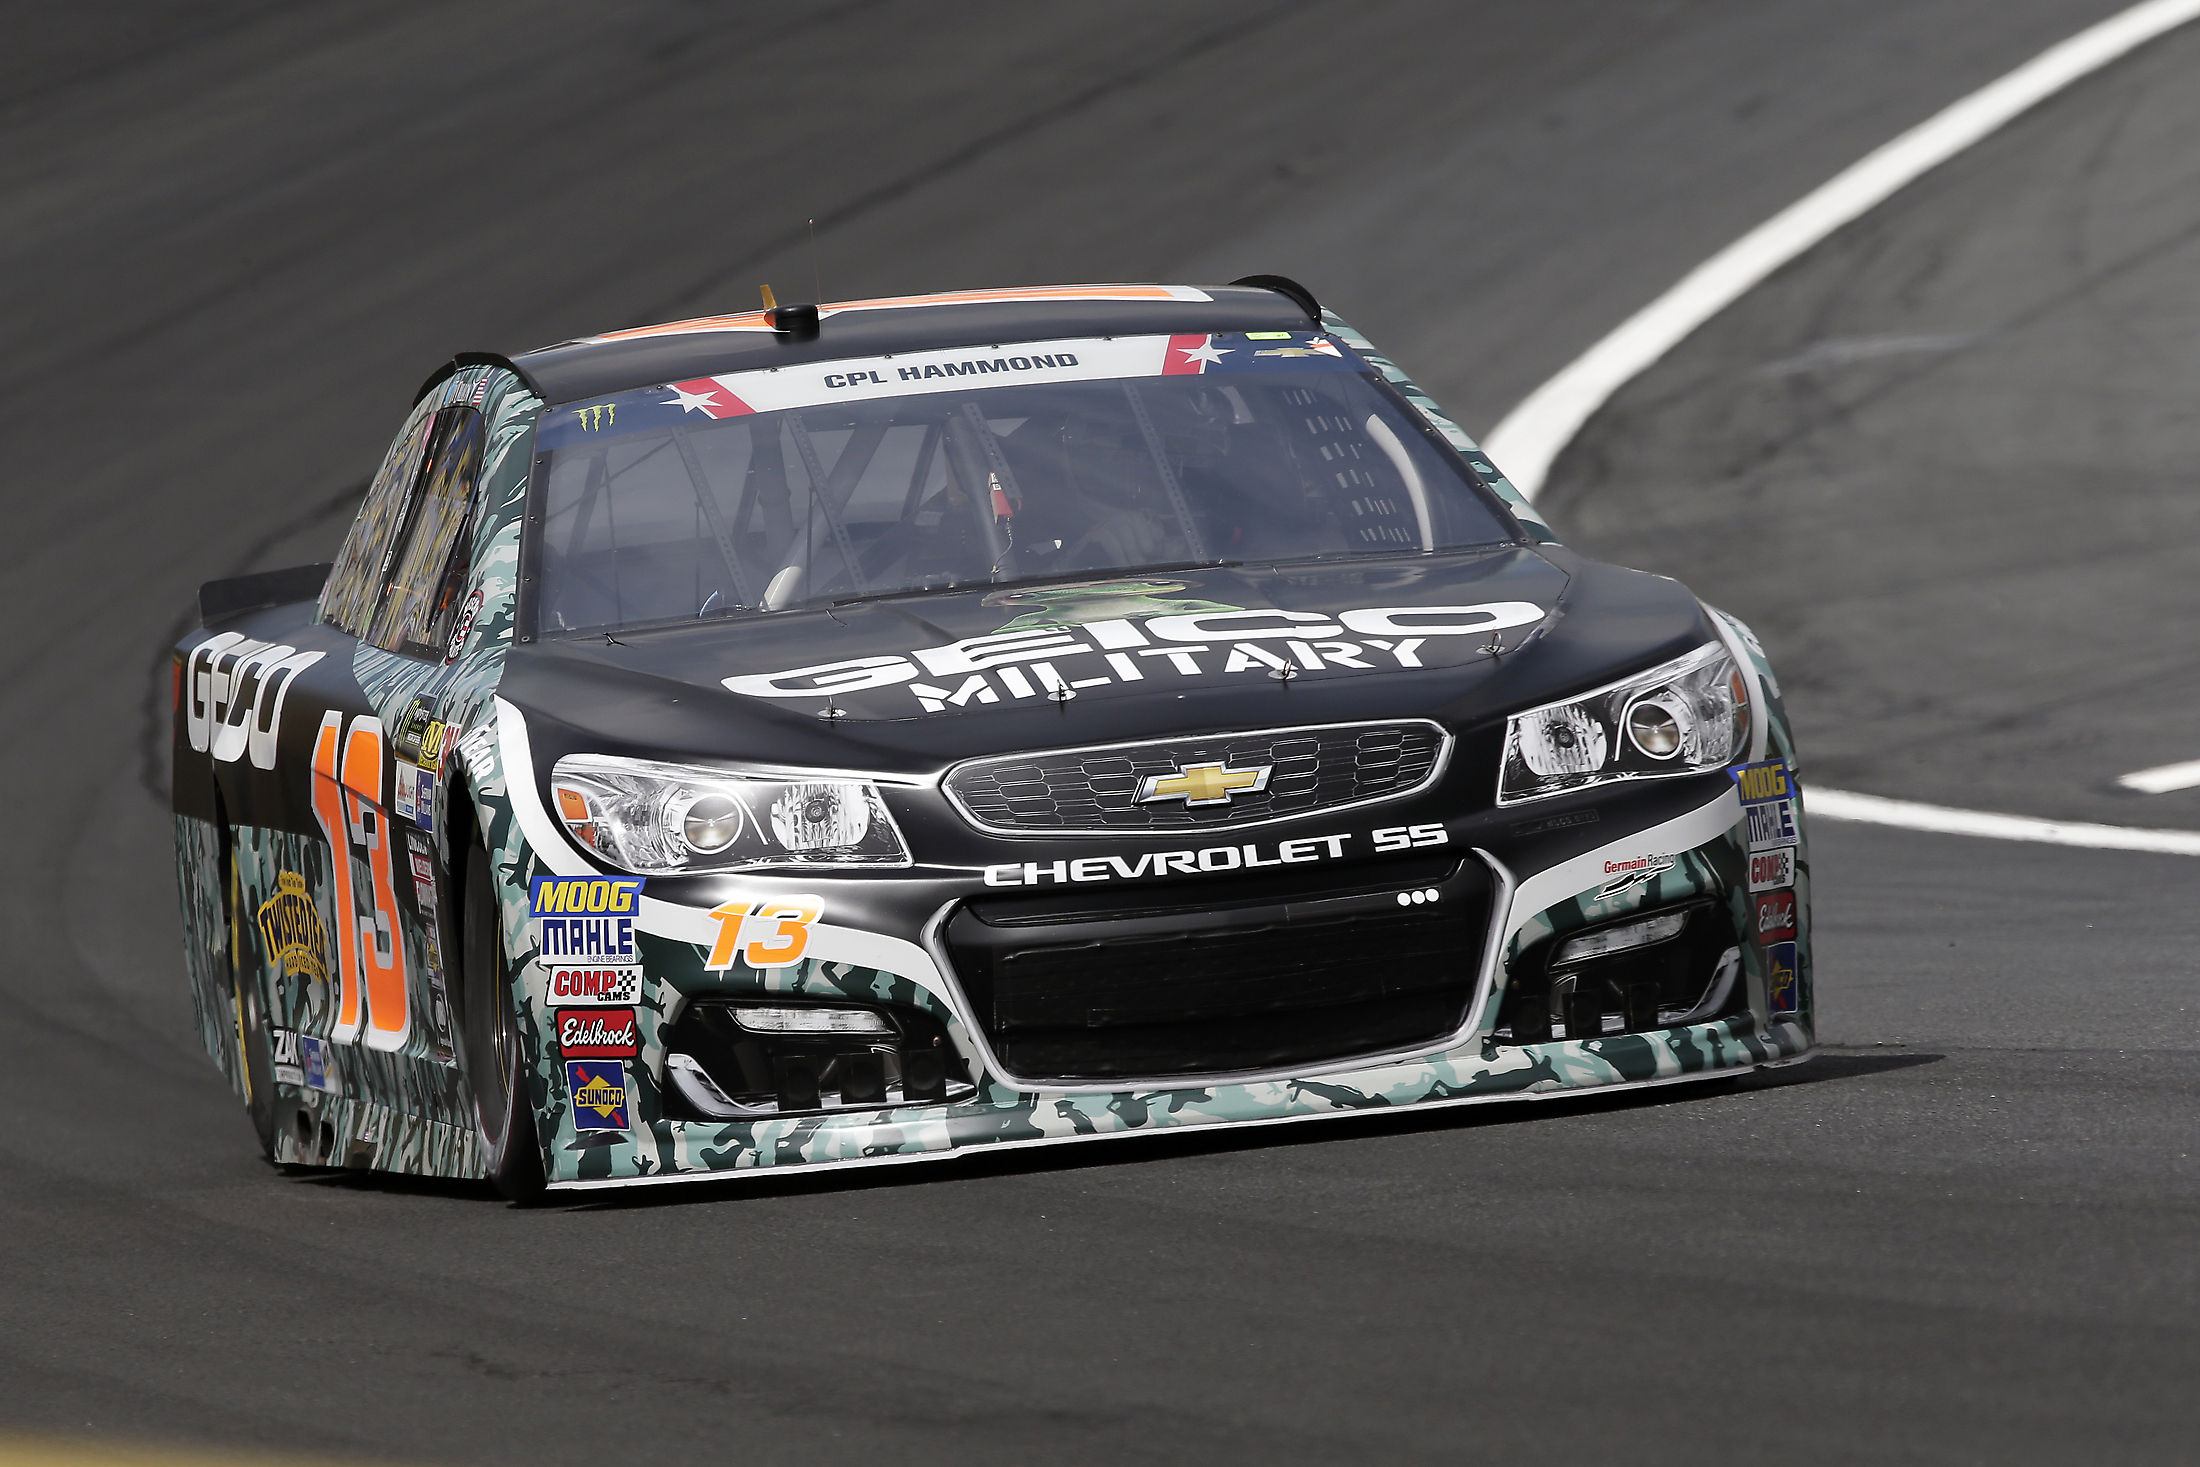Geico: (717, 585, 1565, 720)
